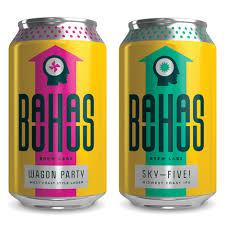beer: (7, 18, 217, 210)
